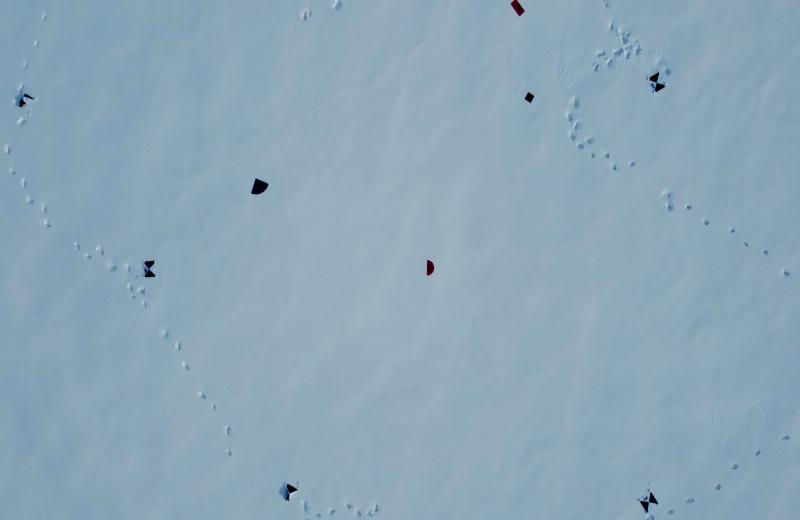Quarter Circle: (250, 176, 270, 196)
Rectangle: (509, 0, 527, 18)
Semi Circle: (424, 260, 436, 278)
Square: (523, 90, 535, 105)
